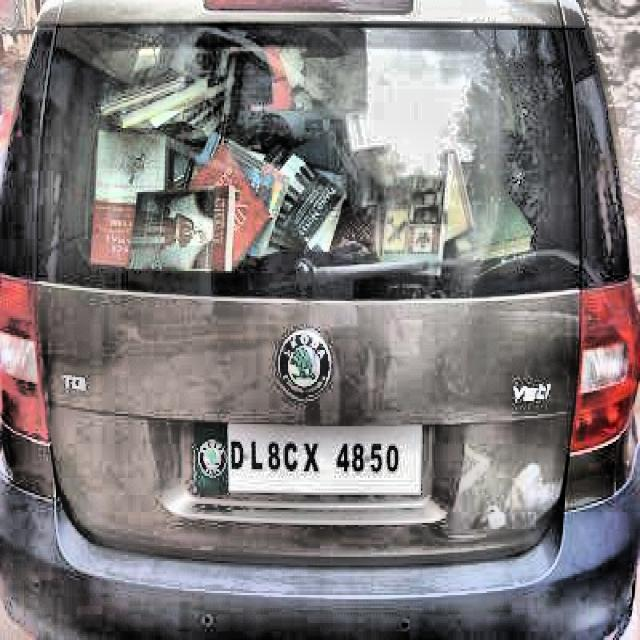license_plate: (193, 422, 420, 497)
